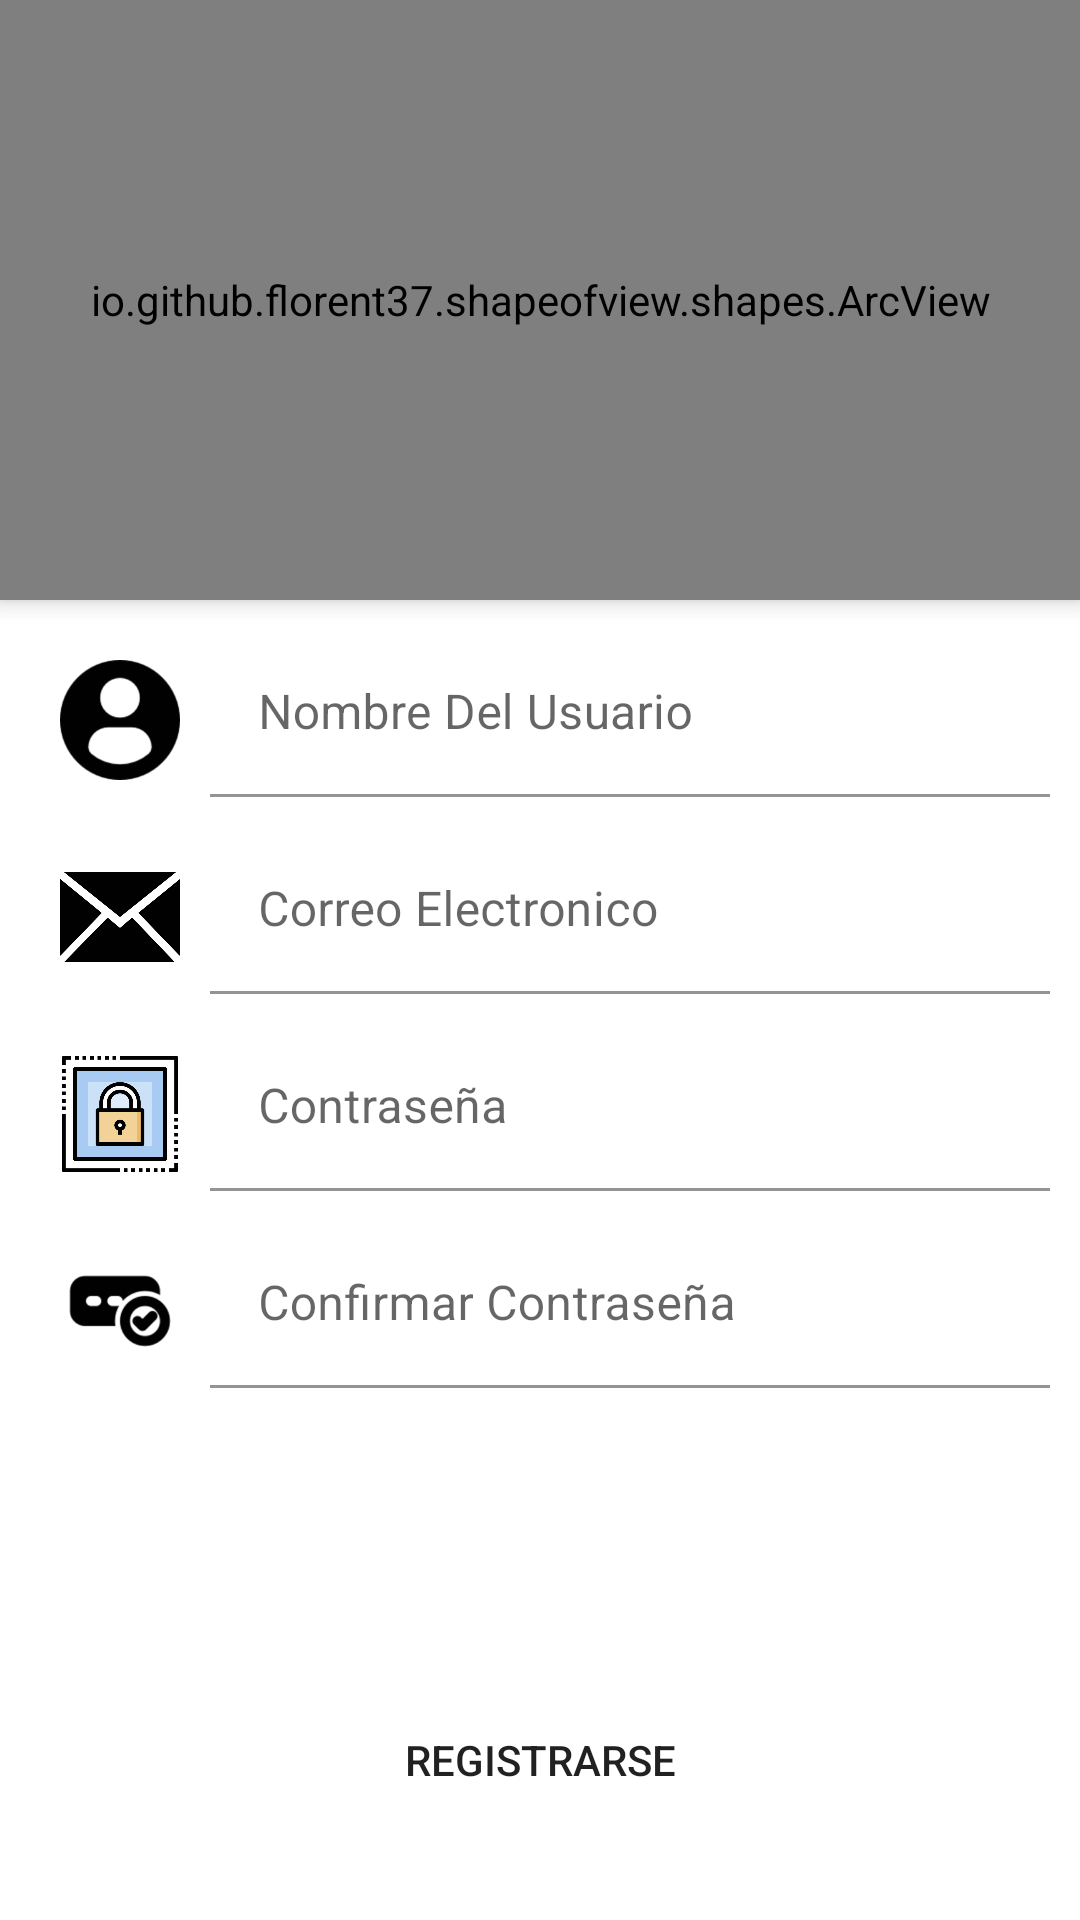

Where to tap for icons on this 1080*1920 app screen, as [x,y]:
confirmarpassword: [120,1311]
icusuario: [120,720]
password: [120,1114]
